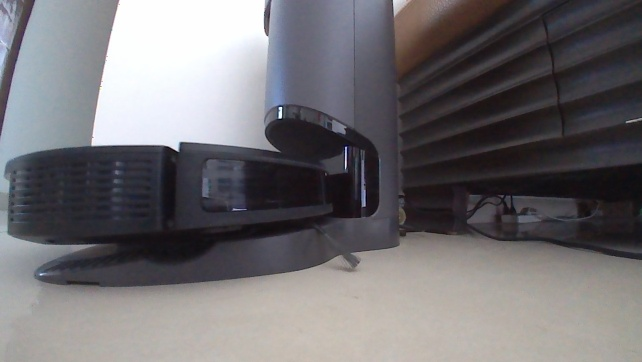wire: (402, 192, 641, 262)
